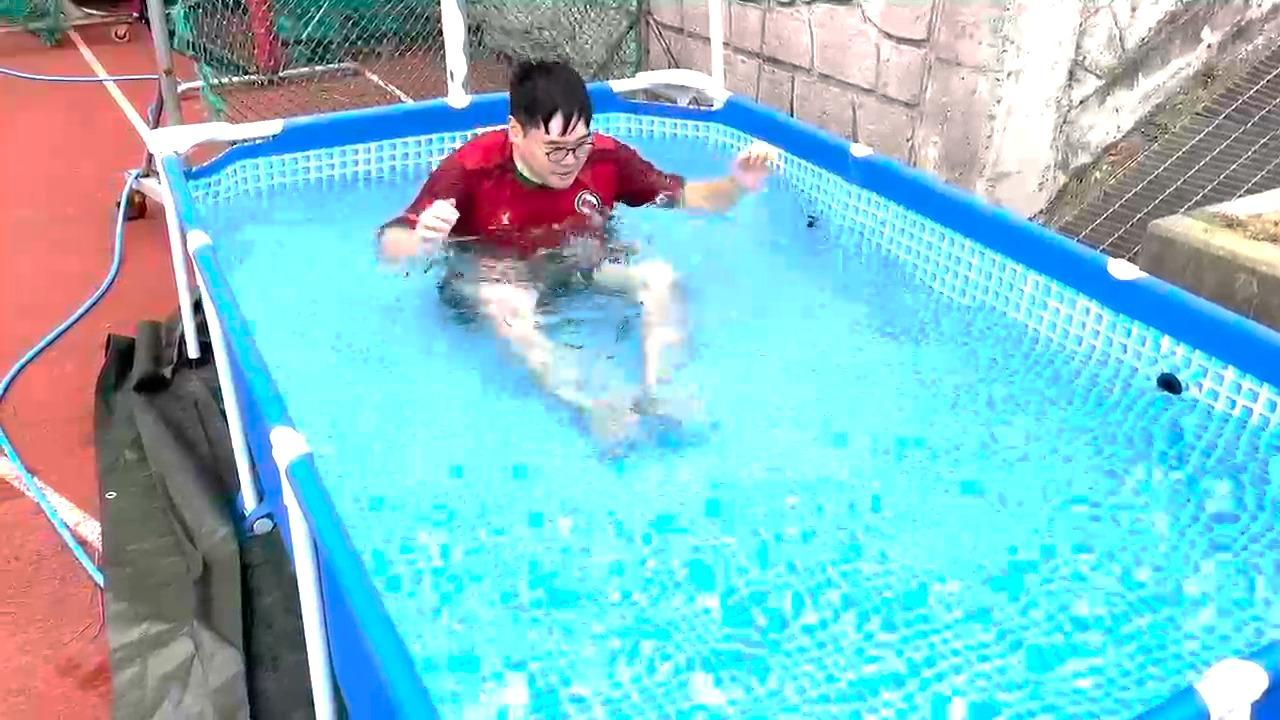Swimming: (309, 32, 819, 490)
